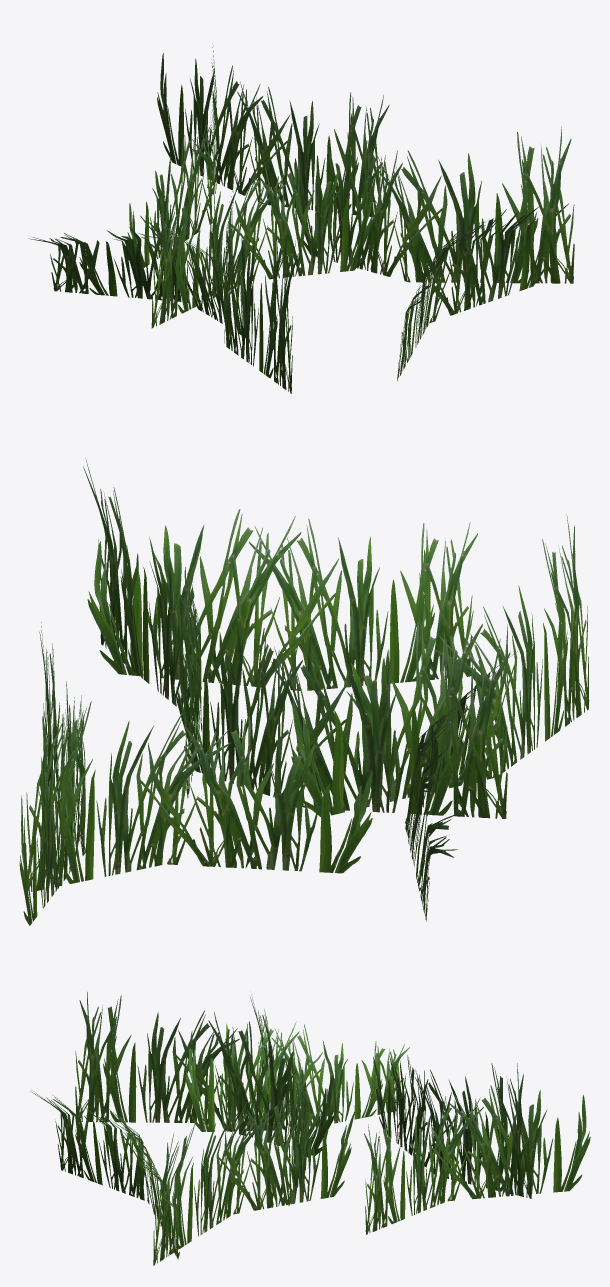
File: Backyard_Grass_LowPoly.fbx
3 renders of one model, top to bottom at view 1: azimuth 30°, elevation 25°; view 2: azimuth 150°, elevation 25°; view 3: azimuth 270°, elevation 25°, orthographic. The views are drawn at different scales.
Visible parts, largest first — view 1: Backyard_Grass_Mobile_8; view 2: Backyard_Grass_Mobile_8; view 3: Backyard_Grass_Mobile_8.
Part boxes in pixels (<box>): Backyard_Grass_Mobile_8: <box>28,43,574,393</box>; Backyard_Grass_Mobile_8: <box>19,460,589,925</box>; Backyard_Grass_Mobile_8: <box>30,992,590,1265</box>.
Size of the model in its own units: 0.6275 by 0.2553 by 0.7929.
Materials: 1 (1 with a texture image).
